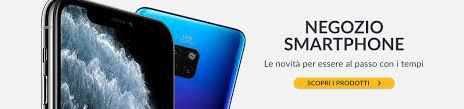Smartphone: (45, 2, 177, 109), (130, 8, 248, 109)
